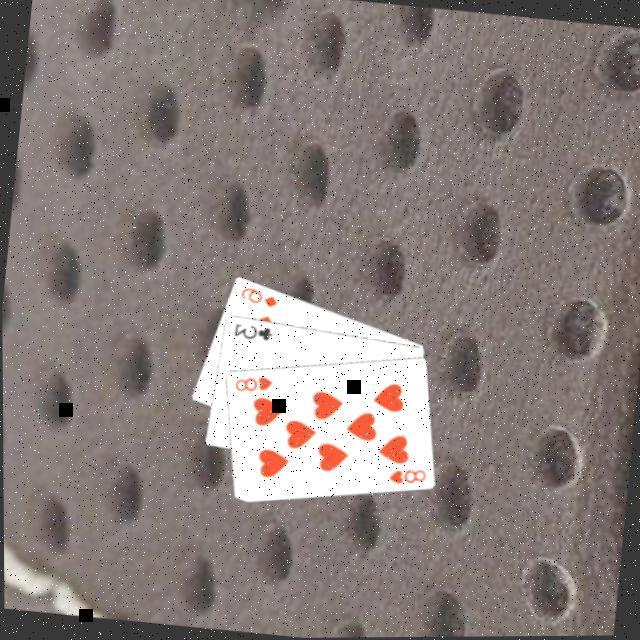3C: (232, 320, 276, 344)
6D: (238, 284, 282, 312)
8H: (231, 371, 275, 398), (386, 464, 430, 490)
